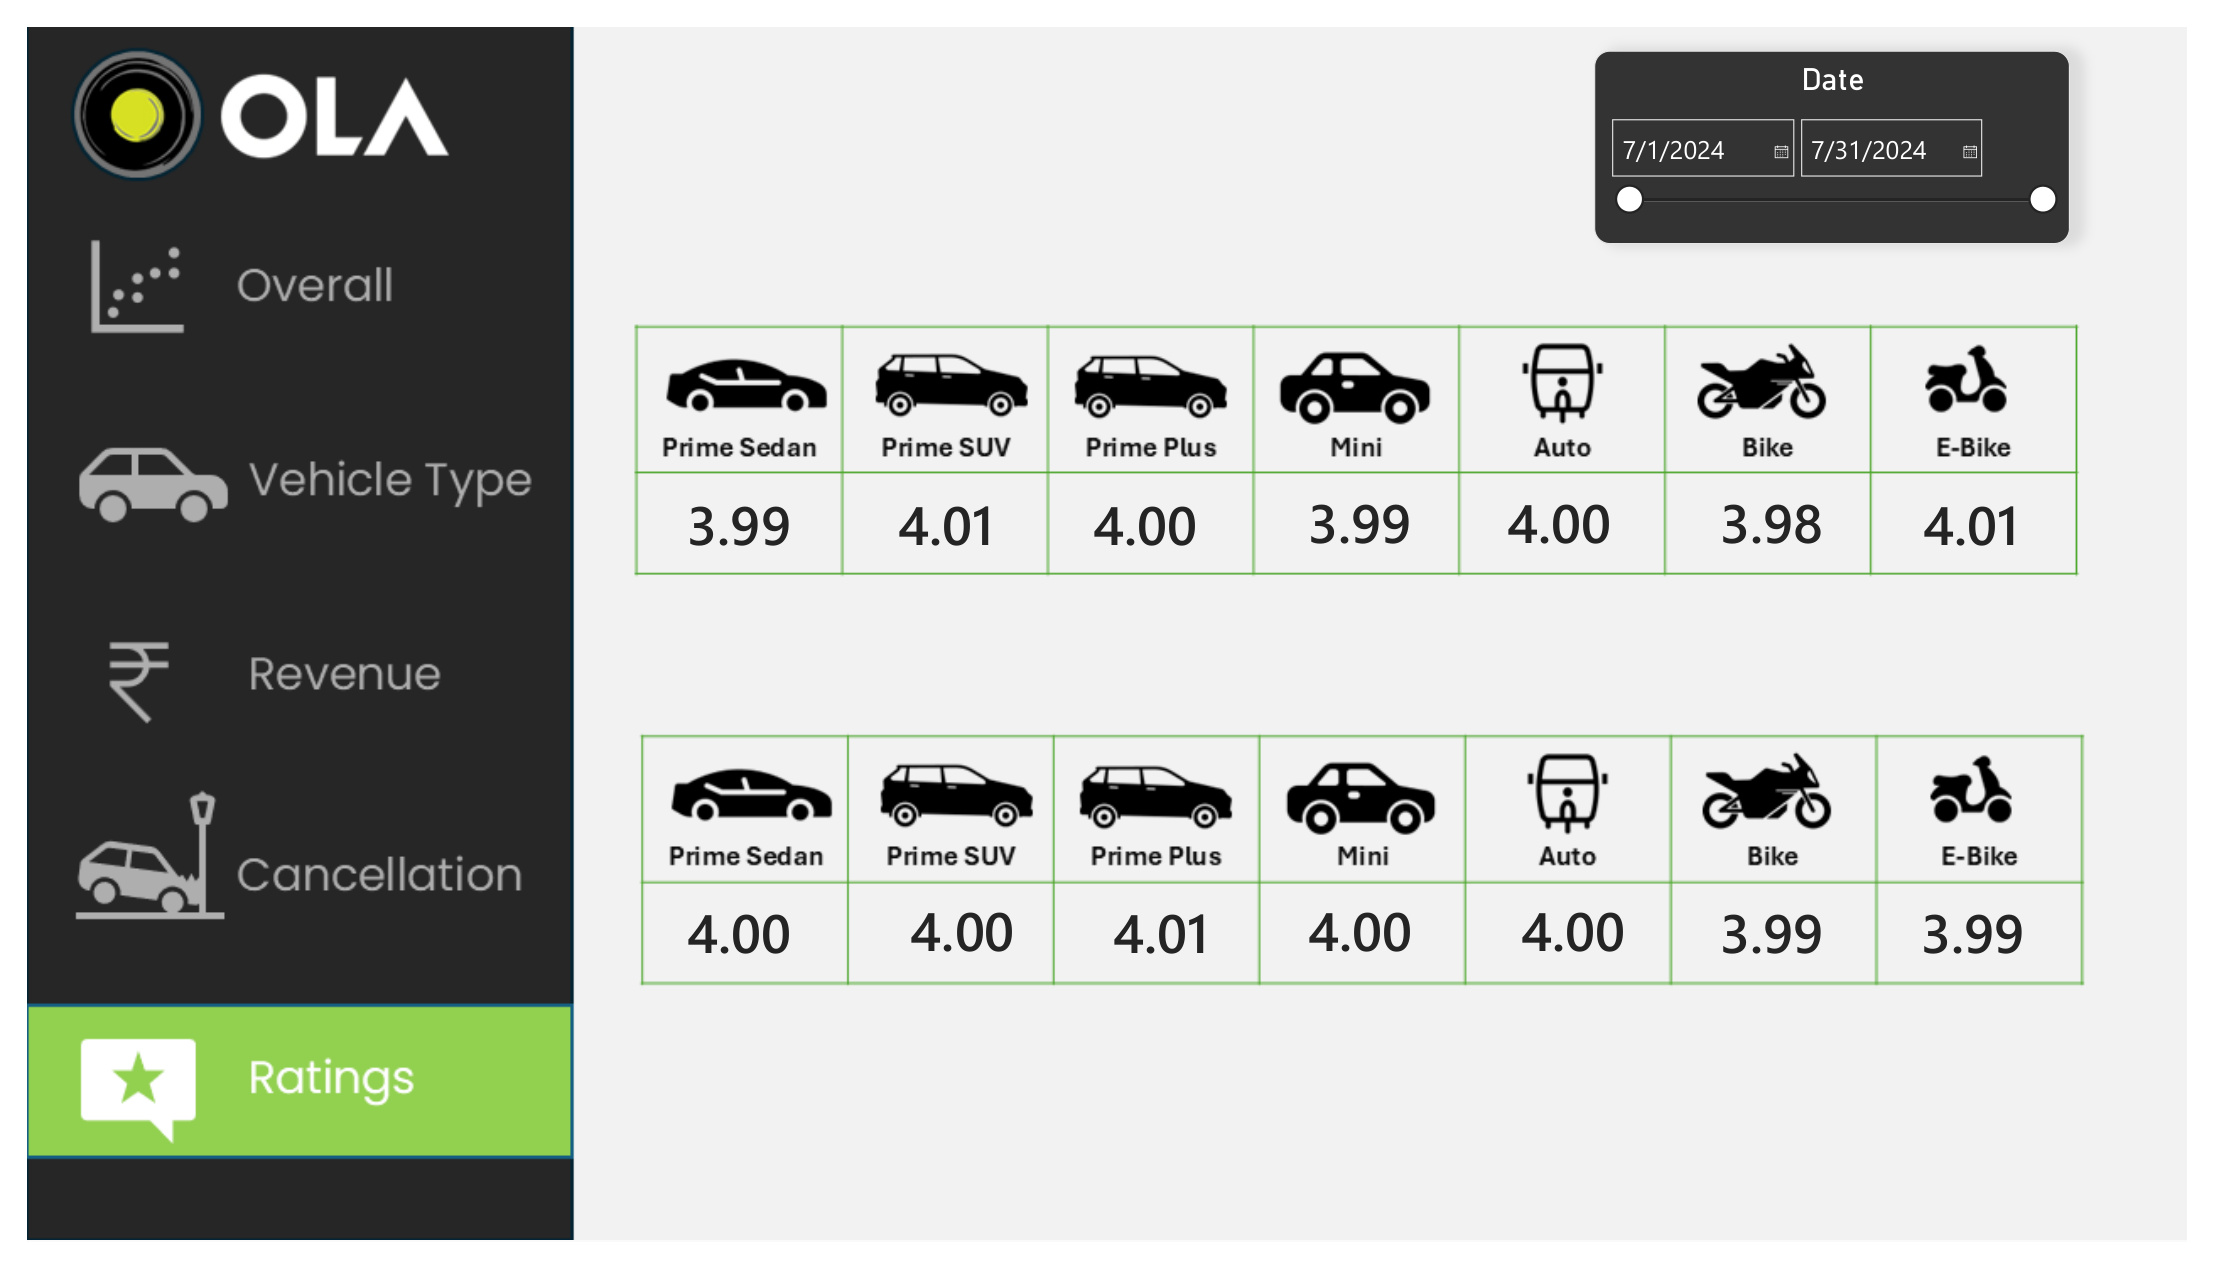

What the dashboard file says about the page in this screenshot:
{"tool":"powerbi","page":{"name":"Ratings","canvas":[1920,1080],"ordinal":4},"visuals":[{"type":"actionButton","box":[0,870.4,483.2,130.3],"z":0},{"type":"actionButton","box":[0,153.8,483.2,130.3],"z":1000},{"type":"actionButton","box":[0,334.8,483.2,130.3],"z":2000},{"type":"actionButton","box":[1.8,512.1,483.2,130.3],"z":3000},{"type":"actionButton","box":[1.8,671.4,483.2,130.3],"z":4000},{"type":"actionButton","box":[1.8,870.4,483.2,130.3],"z":5000},{"type":"cardVisual","fields":{"Data":["Avg(July.Driver_Ratings)"]},"box":[544.6,400,176.8,80.4],"z":5001},{"type":"cardVisual","fields":{"Data":["Avg(July.Driver_Ratings)"]},"box":[728.6,400,176.8,80.4],"z":5002},{"type":"cardVisual","fields":{"Data":["Avg(July.Driver_Ratings)"]},"box":[905.4,400,176.8,80.4],"z":5003},{"type":"cardVisual","fields":{"Data":["Avg(July.Driver_Ratings)"]},"box":[1096.4,398.2,176.8,80.4],"z":5004},{"type":"cardVisual","fields":{"Data":["Avg(July.Driver_Ratings)"]},"box":[1273.2,398.2,176.8,80.4],"z":5005},{"type":"cardVisual","fields":{"Data":["Avg(July.Driver_Ratings)"]},"box":[1462.5,398.2,176.8,80.4],"z":5006},{"type":"cardVisual","fields":{"Data":["Avg(July.Driver_Ratings)"]},"box":[1639.3,400,176.8,80.4],"z":5007},{"type":"cardVisual","fields":{"Data":["Avg(July.Customer_Rating)"]},"box":[544.6,762.5,176.8,80.4],"z":5008},{"type":"cardVisual","fields":{"Data":["Avg(July.Customer_Rating)"]},"box":[742.9,760.7,176.8,80.4],"z":5009},{"type":"cardVisual","fields":{"Data":["Avg(July.Customer_Rating)"]},"box":[919.6,762.5,176.8,80.4],"z":5010},{"type":"cardVisual","fields":{"Data":["Avg(July.Customer_Rating)"]},"box":[1096.4,760.7,176.8,80.4],"z":5011},{"type":"cardVisual","fields":{"Data":["Avg(July.Customer_Rating)"]},"box":[1285.7,760.7,176.8,80.4],"z":5012},{"type":"cardVisual","fields":{"Data":["Avg(July.Customer_Rating)"]},"box":[1462.5,762.5,176.8,80.4],"z":5013},{"type":"cardVisual","fields":{"Data":["Avg(July.Customer_Rating)"]},"box":[1641.1,762.5,176.8,80.4],"z":5014},{"type":"slicer","title":"Date","fields":{"Values":["July.Date"]},"box":[1392.9,21.4,423.2,171.4],"z":5015}]}

Visuals, with their boxes in screenshot pixels (x1, y1, x2, y2), scaled from the page's 1920x1080 canvas onto the 2214x1269 screenshot:
actionButton: (0,1023,557,1176)
actionButton: (0,181,557,334)
actionButton: (0,393,557,546)
actionButton: (2,602,559,755)
actionButton: (2,789,559,942)
actionButton: (2,1023,559,1176)
cardVisual - Avg(July.Driver_Ratings): (628,470,832,564)
cardVisual - Avg(July.Driver_Ratings): (840,470,1044,564)
cardVisual - Avg(July.Driver_Ratings): (1044,470,1248,564)
cardVisual - Avg(July.Driver_Ratings): (1264,468,1468,562)
cardVisual - Avg(July.Driver_Ratings): (1468,468,1672,562)
cardVisual - Avg(July.Driver_Ratings): (1686,468,1890,562)
cardVisual - Avg(July.Driver_Ratings): (1890,470,2094,564)
cardVisual - Avg(July.Customer_Rating): (628,896,832,990)
cardVisual - Avg(July.Customer_Rating): (857,894,1061,988)
cardVisual - Avg(July.Customer_Rating): (1060,896,1264,990)
cardVisual - Avg(July.Customer_Rating): (1264,894,1468,988)
cardVisual - Avg(July.Customer_Rating): (1483,894,1686,988)
cardVisual - Avg(July.Customer_Rating): (1686,896,1890,990)
cardVisual - Avg(July.Customer_Rating): (1892,896,2096,990)
"Date" slicer: (1606,25,2094,227)
